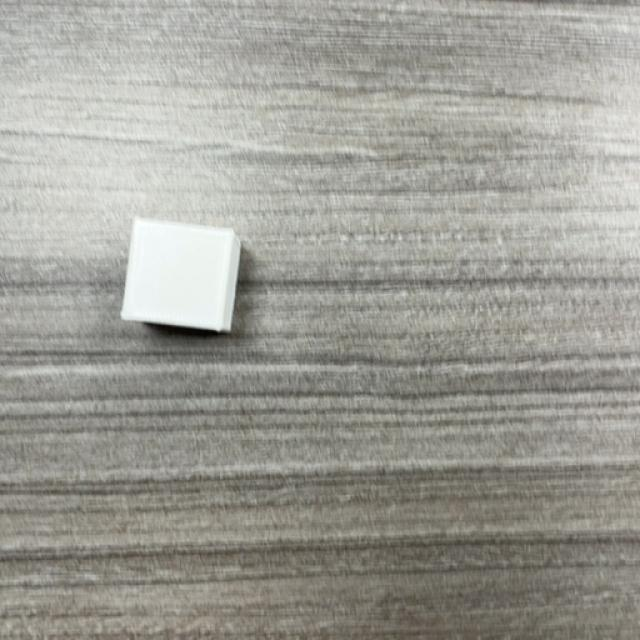Blanco: (120, 219, 242, 334)
